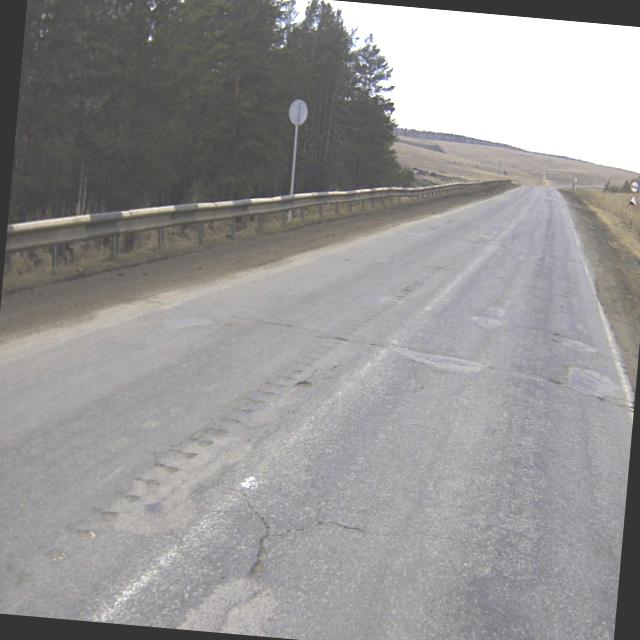road: (0, 184, 635, 640)
